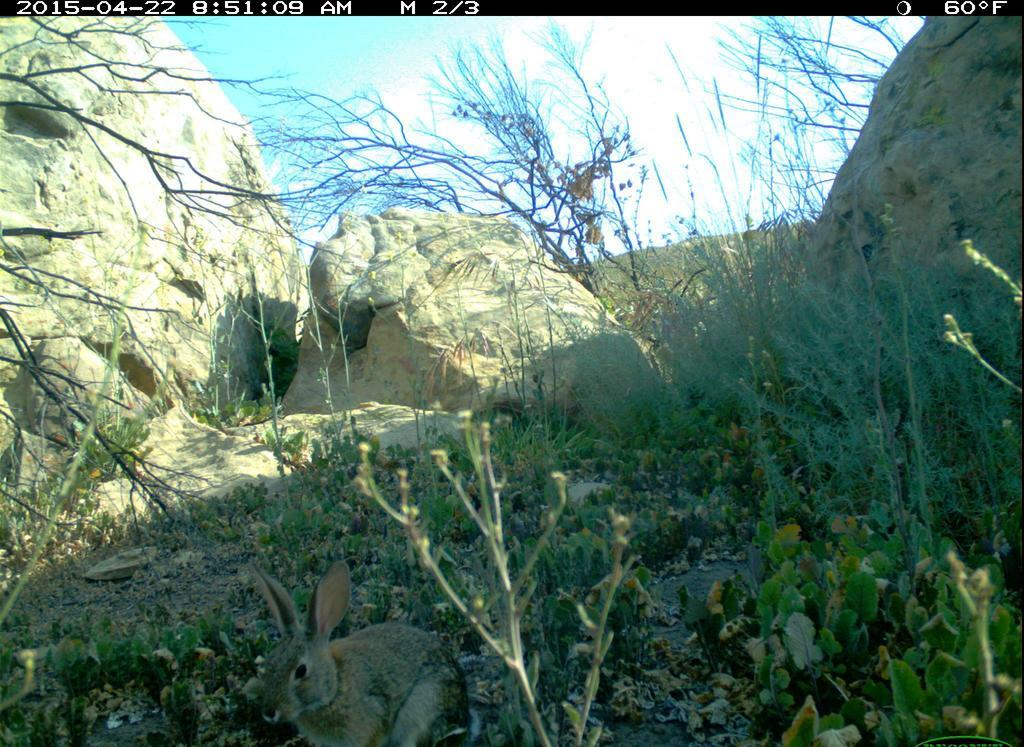rabbit: (240, 556, 472, 747)
